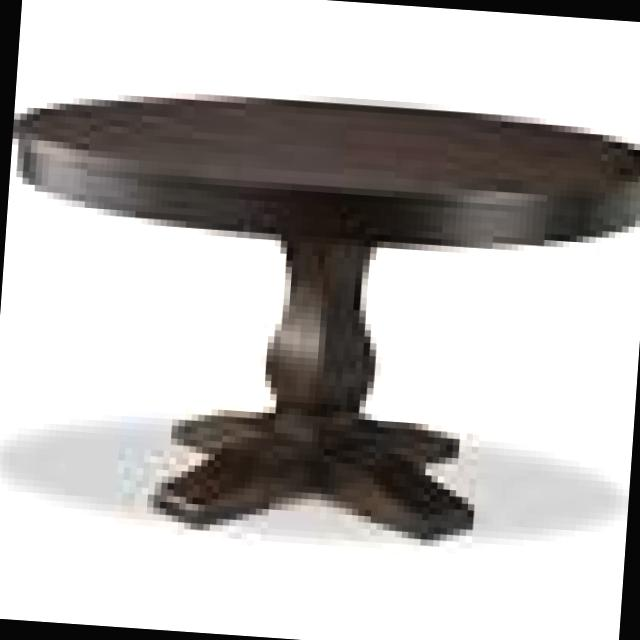obstacle: (8, 16, 634, 610)
